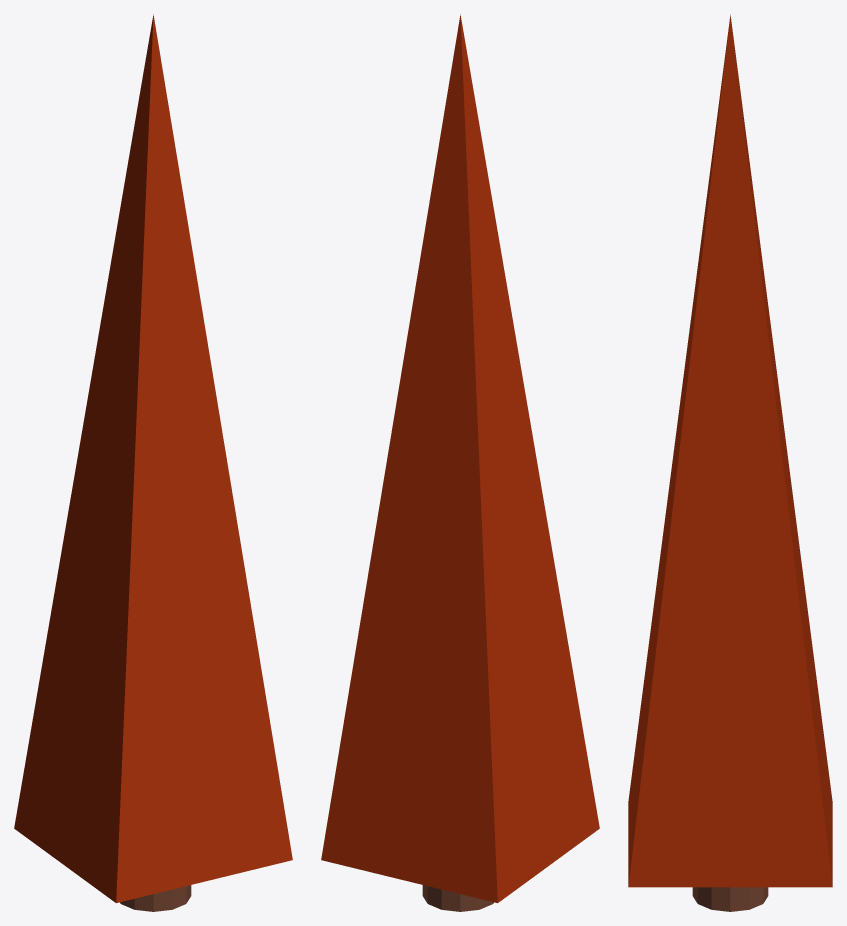
File: Tree_19_summer_red_vc.fbx
The picture shows the model from 3 angles, left to right: view 1: azimuth 30°, elevation 25°; view 2: azimuth 150°, elevation 25°; view 3: azimuth 270°, elevation 25°; orthographic projection.
Visible parts, largest first — view 1: Tree_19_summer_red_vc; view 2: Tree_19_summer_red_vc; view 3: Tree_19_summer_red_vc.
Boxes of the visible parts, x1,y1,x2,y2 form: Tree_19_summer_red_vc: (14, 14, 292, 911); Tree_19_summer_red_vc: (321, 14, 599, 911); Tree_19_summer_red_vc: (628, 14, 832, 911).
Size of the model in its own units: 59.69 by 285 by 59.69.
